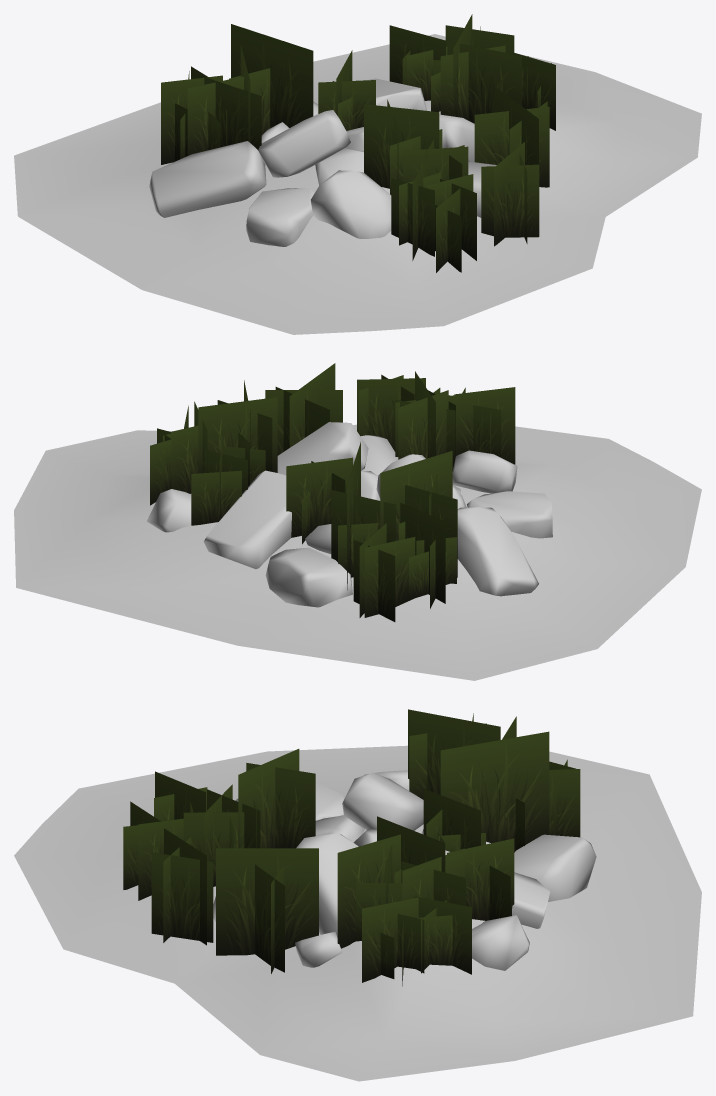
File: Soil_Bricks_Grass_04.fbx
3 renders of one model, top to bottom at view 1: azimuth 30°, elevation 25°; view 2: azimuth 150°, elevation 25°; view 3: azimuth 270°, elevation 25°, orthographic. The views are drawn at different scales.
Visible parts, largest first — view 1: Soil_Bricks_Grass_04_LOD0; view 2: Soil_Bricks_Grass_04_LOD0; view 3: Soil_Bricks_Grass_04_LOD0.
Part boxes in pixels (x1=…): Soil_Bricks_Grass_04_LOD0: x1=14, y1=14, x2=701, y2=334; Soil_Bricks_Grass_04_LOD0: x1=14, y1=363, x2=701, y2=680; Soil_Bricks_Grass_04_LOD0: x1=14, y1=709, x2=701, y2=1081.
Size of what is drawn, in the model's own units: 10.17 by 2.12 by 8.7.
